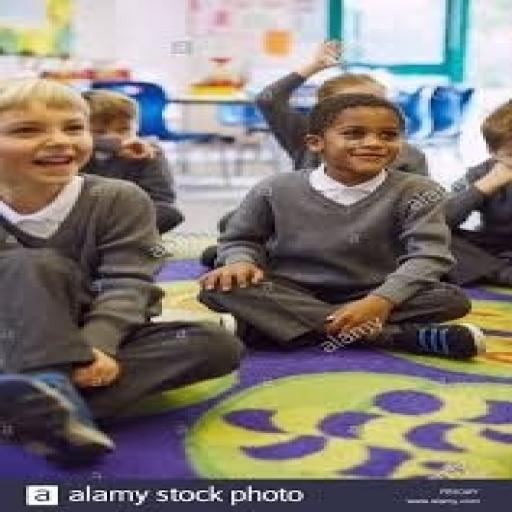sitting: (0, 76, 246, 464), (194, 92, 486, 359), (252, 38, 431, 178), (75, 86, 185, 236), (440, 97, 509, 287)
